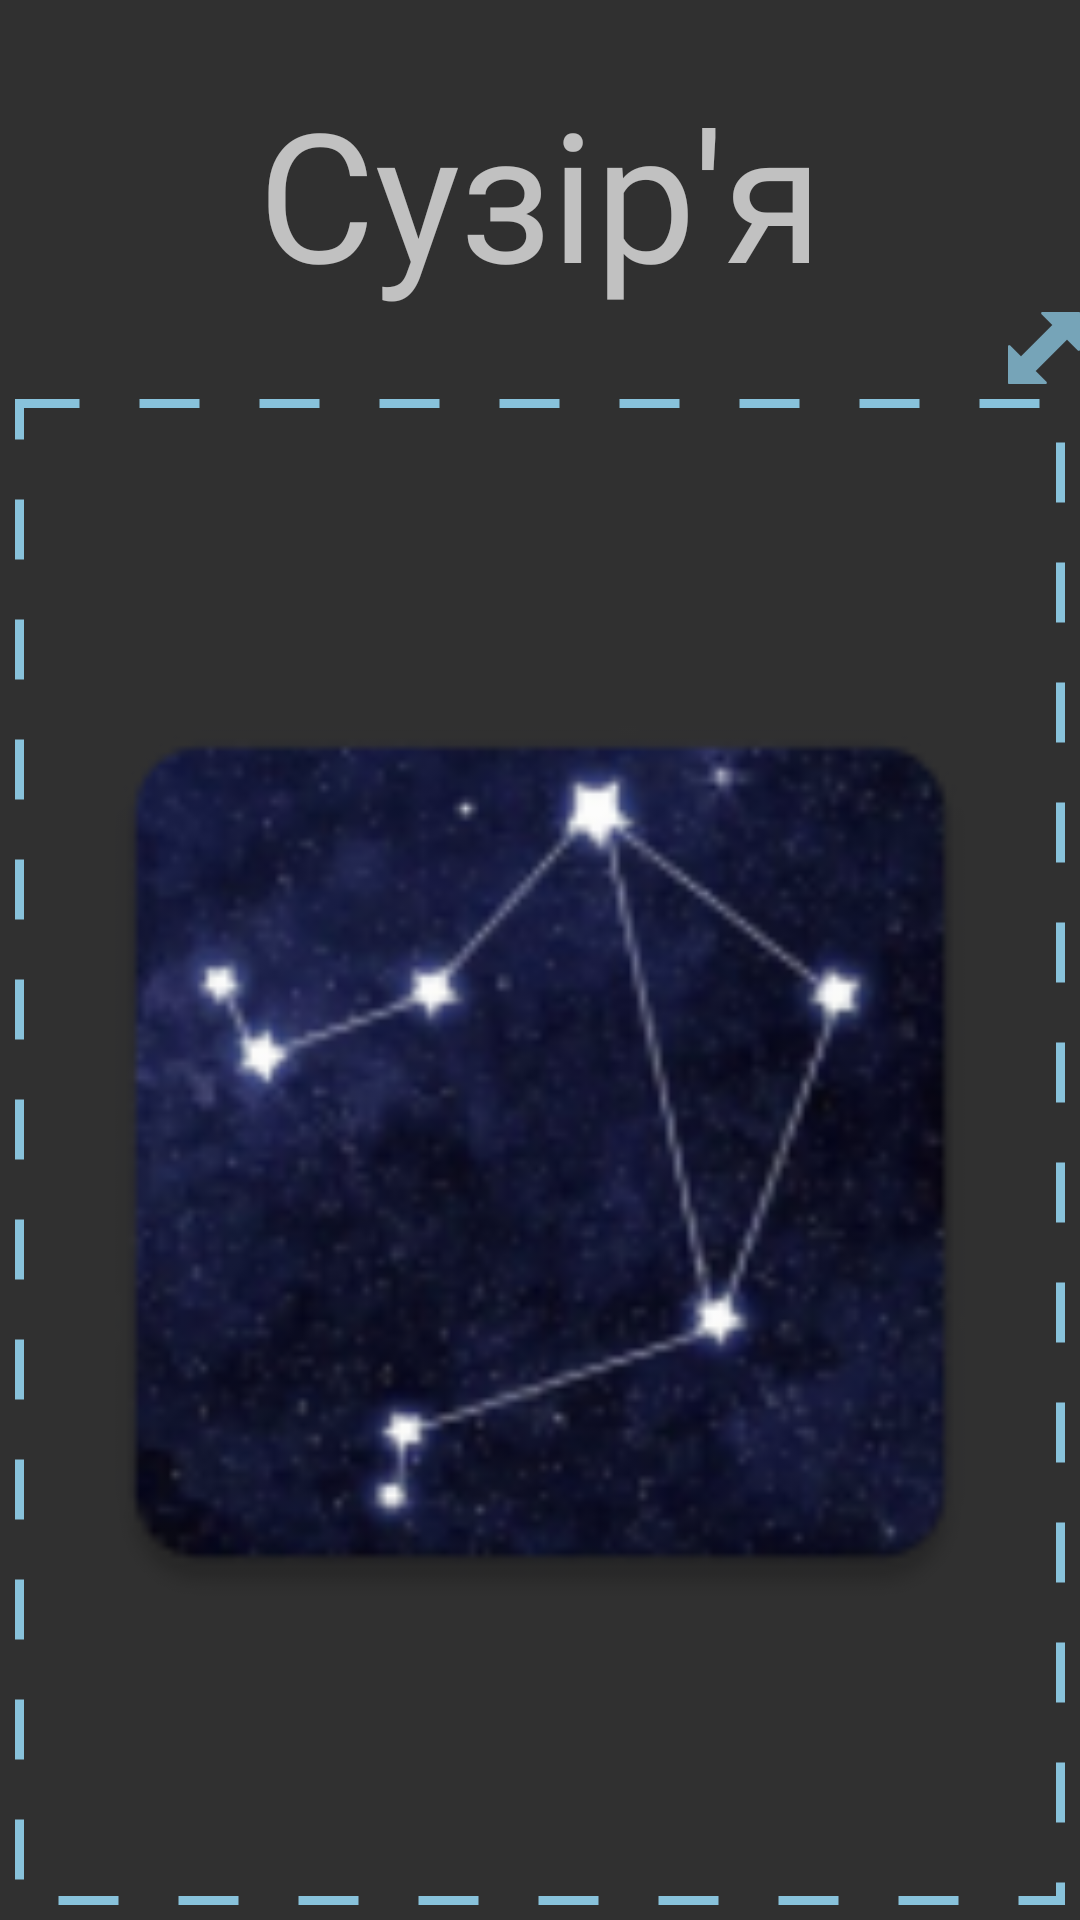

Named icons in this screenshot (1080w x 1920h) and their bounding boxes, (x1, y1, x2, y2):
resize arrow image: (1008, 312, 1080, 384)
